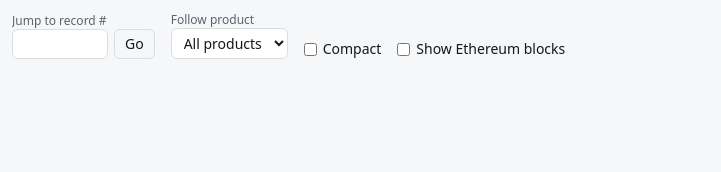
Test: ChainControls › explains that an empty ledger has nothing to jump to
Click the button "Go" at (134, 44), box x1=114 y1=29 x2=155 y2=59
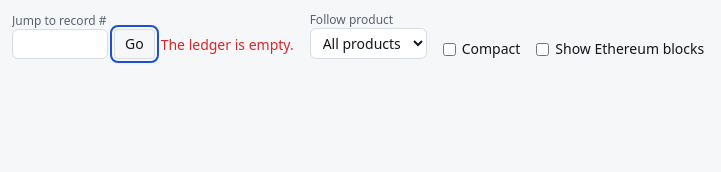
expect the message shows "empty": met, box x1=161 y1=35 x2=294 y2=54
